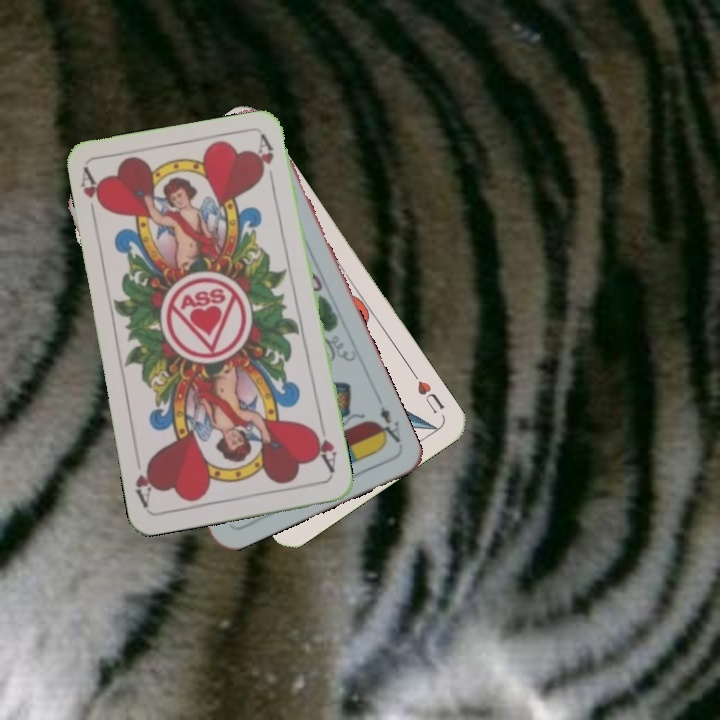EA: (371, 402, 404, 447)
HA: (77, 165, 109, 224), (308, 419, 339, 476)
HU: (407, 367, 448, 417)
